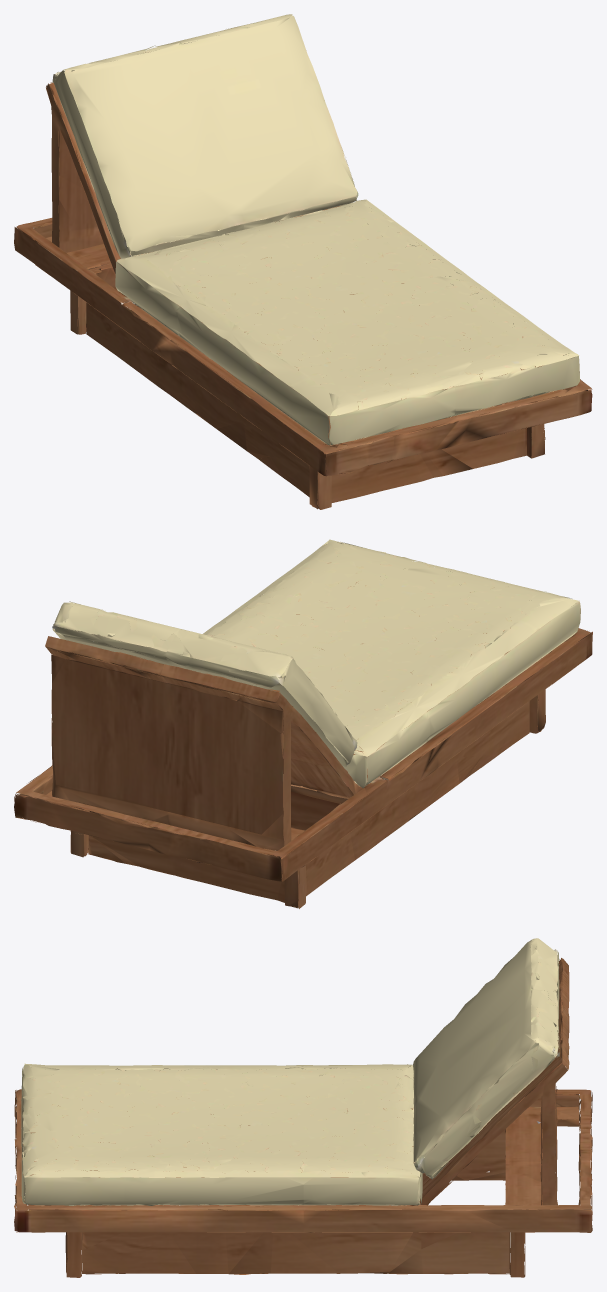
Rendered from PenthouseDaybed.glb.
The picture shows the model from 3 angles, top to bottom: view 1: azimuth 30°, elevation 25°; view 2: azimuth 150°, elevation 25°; view 3: azimuth 270°, elevation 25°; orthographic projection. The views are drawn at different scales.
Visible parts, largest first — view 1: Penthouse-Daybed_01, Penthouse-Daybed_00, Penthouse-Daybed_11, Penthouse-Daybed_10; view 2: Penthouse-Daybed_01, Penthouse-Daybed_00, Penthouse-Daybed_11, Penthouse-Daybed_10; view 3: Penthouse-Daybed_11, Penthouse-Daybed_10, Penthouse-Daybed_01, Penthouse-Daybed_00.
Boxes of the visible parts, bbox=[...] form: Penthouse-Daybed_01: bbox=[14, 42, 302, 414]; Penthouse-Daybed_00: bbox=[170, 273, 458, 509]; Penthouse-Daybed_11: bbox=[175, 14, 427, 294]; Penthouse-Daybed_10: bbox=[304, 245, 592, 479]; Penthouse-Daybed_01: bbox=[148, 629, 437, 908]; Penthouse-Daybed_00: bbox=[307, 569, 592, 819]; Penthouse-Daybed_11: bbox=[14, 601, 187, 878]; Penthouse-Daybed_10: bbox=[203, 539, 454, 675]; Penthouse-Daybed_11: bbox=[303, 989, 592, 1277]; Penthouse-Daybed_10: bbox=[14, 1116, 303, 1277]; Penthouse-Daybed_01: bbox=[303, 938, 592, 1180]; Penthouse-Daybed_00: bbox=[14, 1063, 303, 1159].
Bounding box in the file's own units: 3.83 × 3.53 × 7.72.
Materials: 1 (1 with a texture image).
